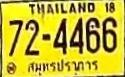2: (24, 19, 38, 55)
4: (69, 17, 83, 53), (53, 18, 66, 54)
6: (102, 16, 116, 52), (85, 17, 99, 52)
7: (8, 19, 22, 56)
SPK: (26, 58, 100, 76)
